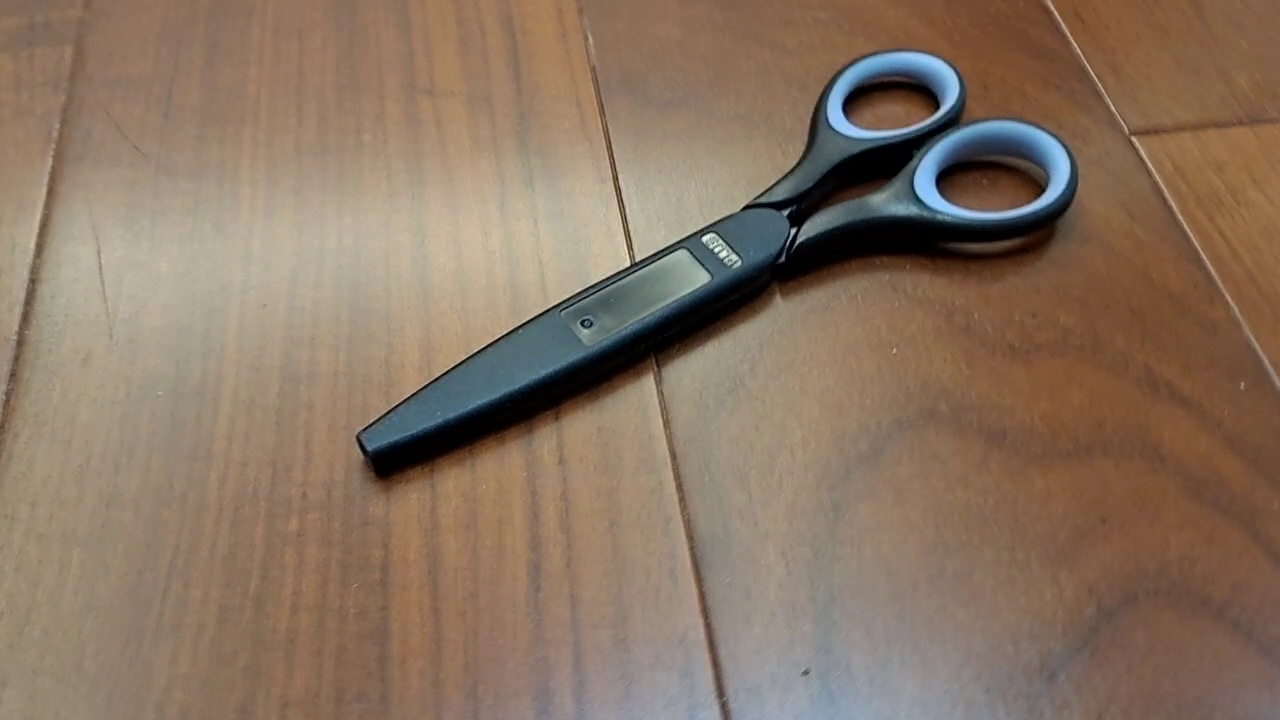scissors: (355, 46, 1080, 482)
